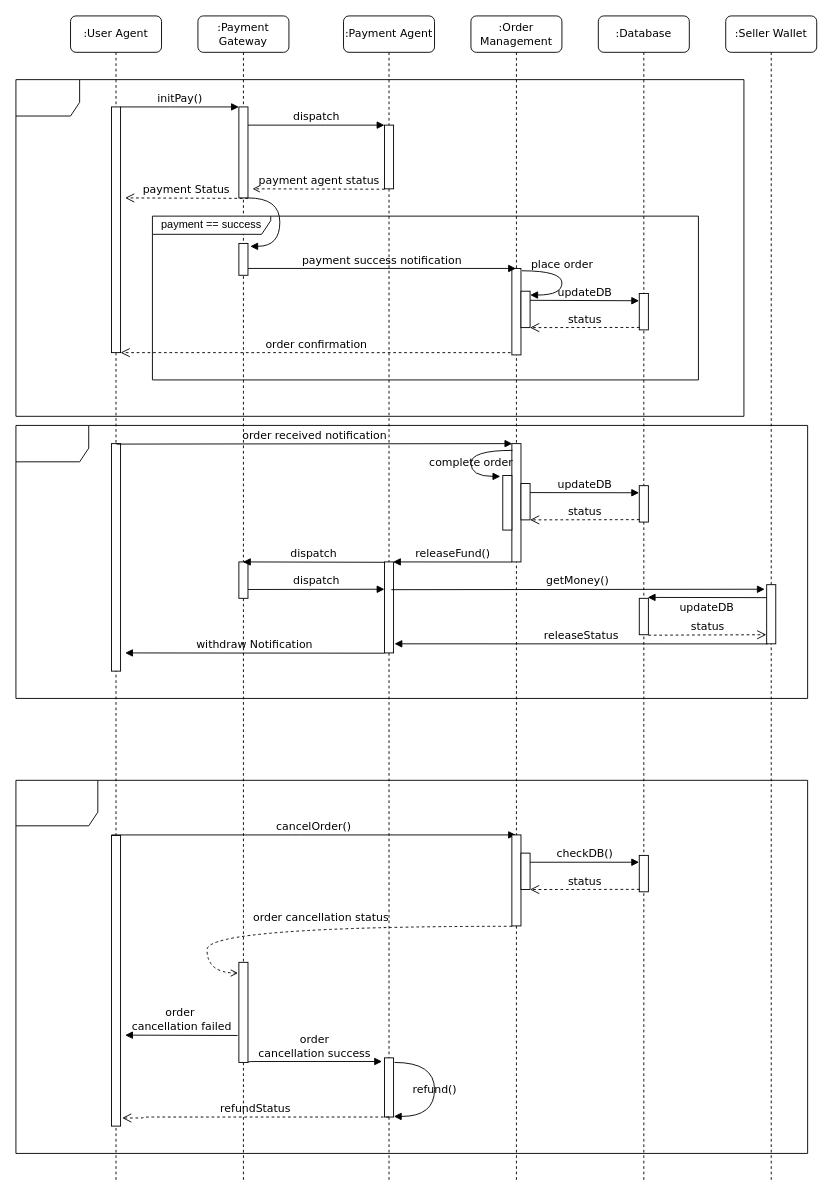
The diagram is 833 pixels wide and 1197 high, and some of its shapes have lost their labels. Each missing label, with the centre of its shape:
"customer payment" belongs at point 379,247.
"order cancel & refund" belongs at point 411,966.
"Seller Withdraw" belongs at point 411,561.
